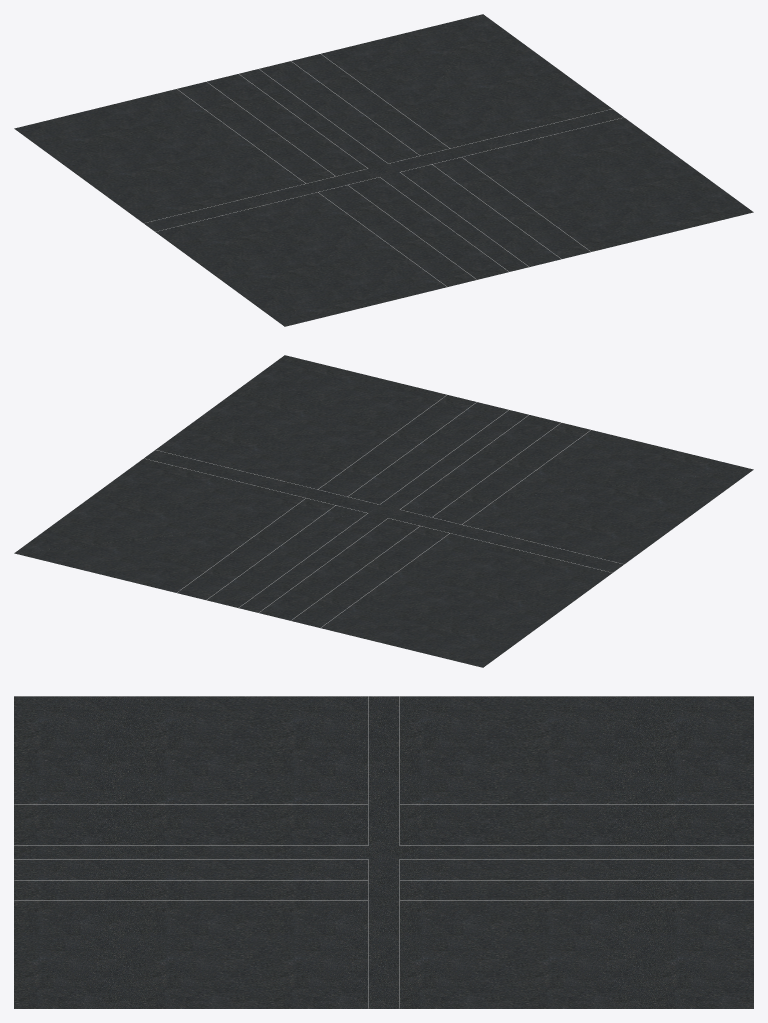
Rendered from Road.gltf.
The picture shows the model from 3 angles, top to bottom: view 1: azimuth 30°, elevation 25°; view 2: azimuth 150°, elevation 25°; view 3: azimuth 270°, elevation 25°; orthographic projection. The views are drawn at different scales.
Parts seen in each view (by area): view 1: 平面; view 2: 平面; view 3: 平面.
Part boxes in pixels (x1,y1,x2,y2): 平面: (14, 14, 753, 326); 平面: (14, 355, 753, 667); 平面: (14, 696, 753, 1008).
Size of the model in its own units: 700 by 0.1 by 700.
2 materials, 1 textured.
